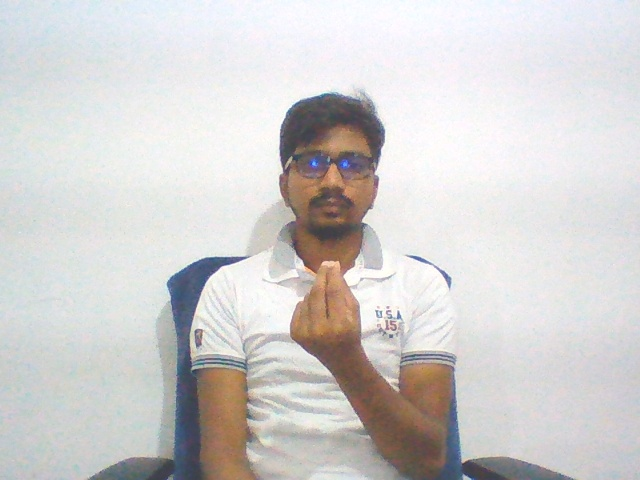dog: (284, 253, 373, 363)
